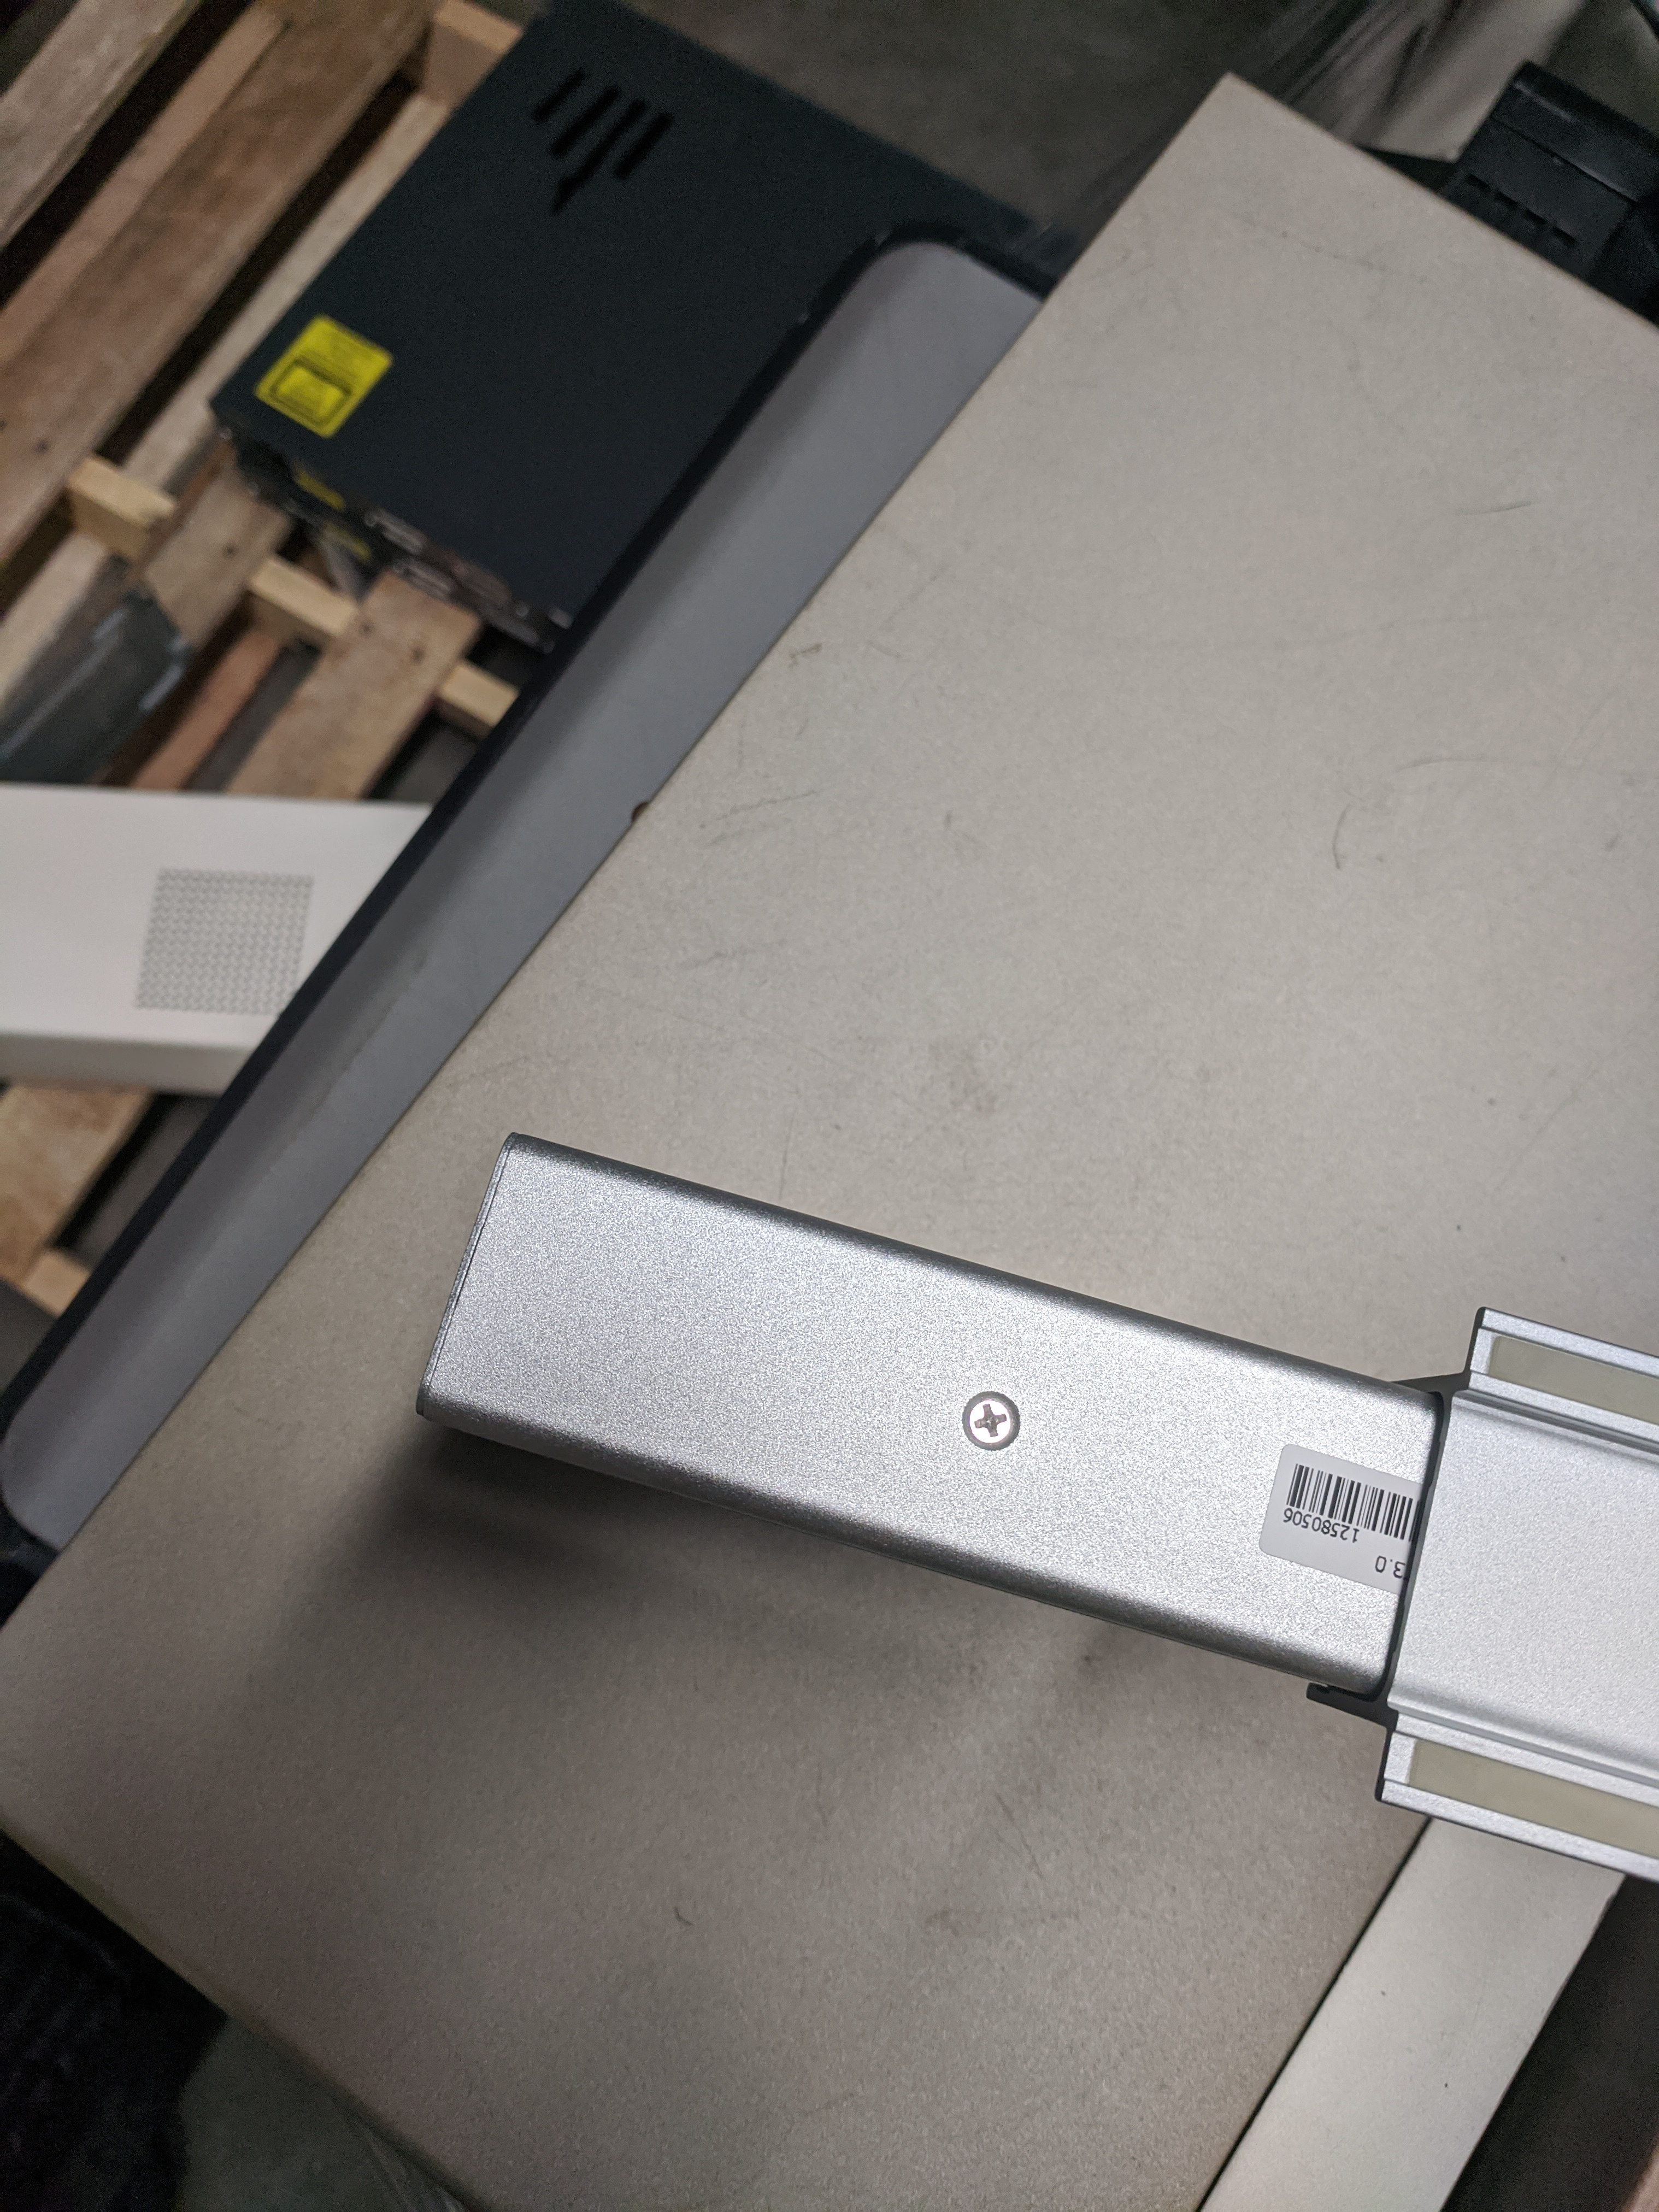cross_recessed_screw: (950, 1379, 1028, 1458)
